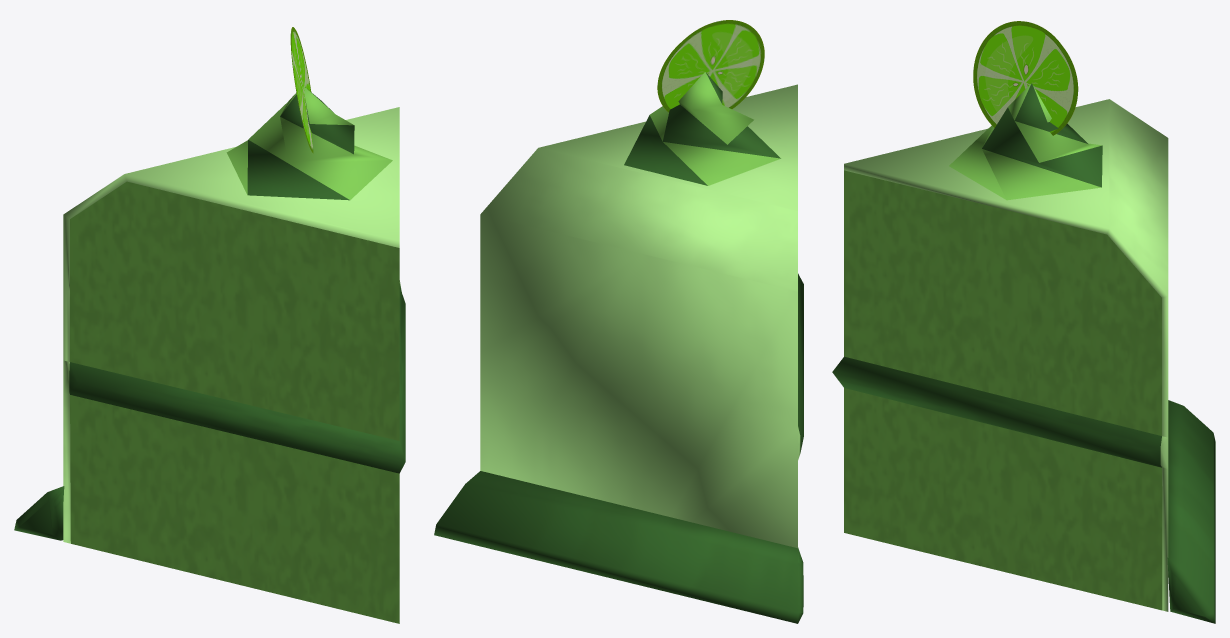
Rendered from Cake_Slice_A_5.FBX.
3 renders of one model, left to right at view 1: azimuth 30°, elevation 25°; view 2: azimuth 150°, elevation 25°; view 3: azimuth 270°, elevation 25°, orthographic. The views are drawn at different scales.
Parts seen in each view (by area): view 1: Cake_03; view 2: Cake_03; view 3: Cake_03.
Boxes of the visible parts, left/top/right/bottom form: Cake_03: left=14, top=27, right=405, bottom=623; Cake_03: left=434, top=20, right=803, bottom=623; Cake_03: left=832, top=21, right=1215, bottom=623.
Size of the model in its own units: 58.57 by 76.29 by 52.35.
